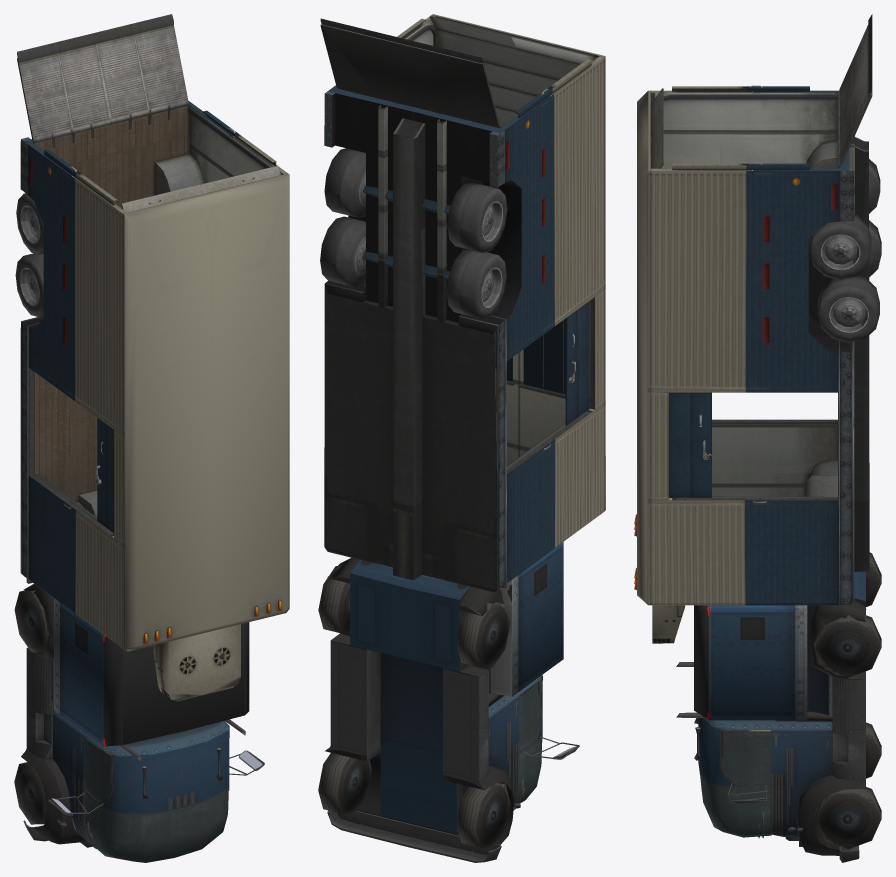
File: nt_2020_truck_01_LOD3.obj
3 views of the same model, side by side, from view 1: azimuth 30°, elevation 25°; view 2: azimuth 150°, elevation 25°; view 3: azimuth 270°, elevation 25° (orthographic). The views are drawn at different scales.
Parts seen in each view (by area): view 1: mtl_nt_2020_truck_trailer, mtl_nt_2020_truck_01, mtl_nt_2020_truck_cab_window, mtl_nt_2020_truck_tire, mtl_nt_2020_truck_wheel; view 2: mtl_nt_2020_truck_trailer, mtl_nt_2020_truck_01, mtl_nt_2020_truck_tire, mtl_nt_2020_truck_cab_window, mtl_nt_2020_truck_wheel; view 3: mtl_nt_2020_truck_trailer, mtl_nt_2020_truck_01, mtl_nt_2020_truck_tire, mtl_nt_2020_truck_cab_window, mtl_nt_2020_truck_wheel.
Part boxes in pixels (x1,y1,x2,y2): mtl_nt_2020_truck_trailer: [17, 14, 289, 701]; mtl_nt_2020_truck_01: [14, 584, 282, 848]; mtl_nt_2020_truck_cab_window: [84, 738, 228, 862]; mtl_nt_2020_truck_tire: [15, 193, 43, 316]; mtl_nt_2020_truck_wheel: [20, 206, 39, 305]; mtl_nt_2020_truck_trailer: [320, 14, 605, 592]; mtl_nt_2020_truck_01: [318, 542, 579, 862]; mtl_nt_2020_truck_tire: [320, 148, 507, 318]; mtl_nt_2020_truck_cab_window: [515, 682, 542, 803]; mtl_nt_2020_truck_wheel: [482, 202, 502, 306]; mtl_nt_2020_truck_trailer: [637, 14, 872, 643]; mtl_nt_2020_truck_01: [634, 514, 881, 862]; mtl_nt_2020_truck_tire: [809, 159, 881, 342]; mtl_nt_2020_truck_cab_window: [700, 730, 771, 837]; mtl_nt_2020_truck_wheel: [822, 235, 867, 331].
Size of the model in its own units: 446 by 1658 by 477.
